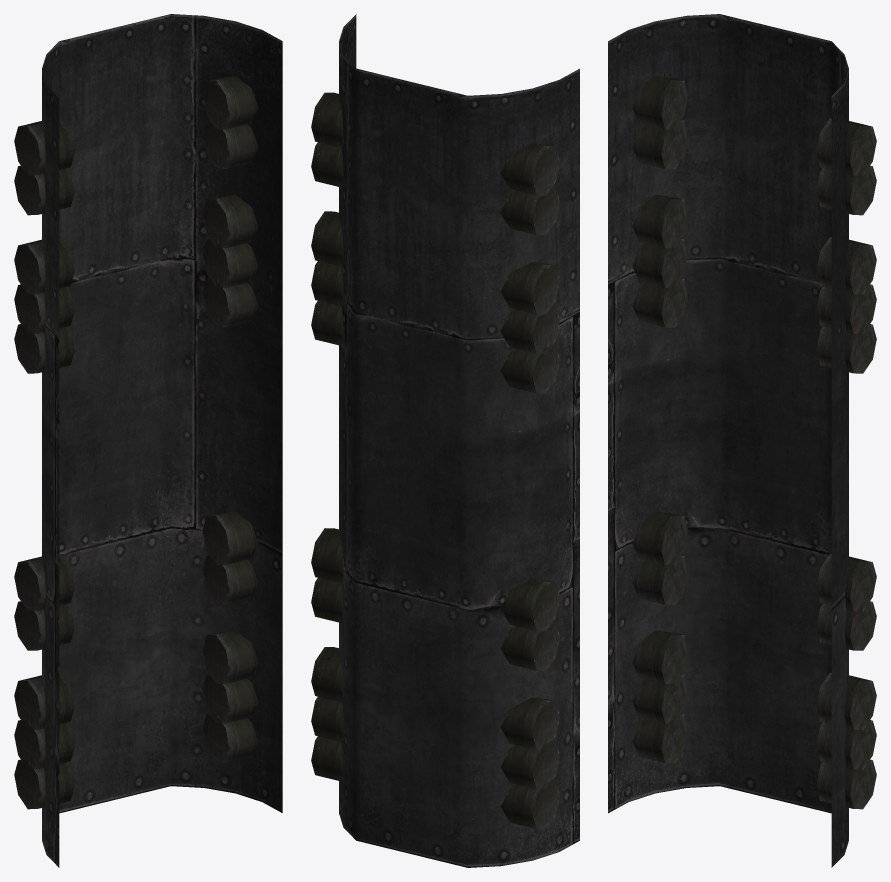
The model's file is tesla_dressing_pipe_clusters_04_hood.dae.
The picture shows the model from 3 angles, left to right: view 1: azimuth 30°, elevation 25°; view 2: azimuth 150°, elevation 25°; view 3: azimuth 330°, elevation 25°; orthographic projection.
Visible parts, largest first — view 1: pCylinder1, polySurface49, polySurface48; view 2: pCylinder1, polySurface48, polySurface49; view 3: pCylinder1, polySurface48, polySurface49.
Part boxes in pixels (x1,y1,x2,y2): pCylinder1: [42, 14, 282, 867]; polySurface49: [202, 76, 258, 763]; polySurface48: [14, 118, 74, 809]; pCylinder1: [339, 14, 579, 867]; polySurface48: [500, 143, 559, 829]; polySurface49: [311, 92, 343, 781]; pCylinder1: [608, 14, 848, 867]; polySurface48: [632, 76, 688, 763]; polySurface49: [816, 118, 876, 809].
Size of the model in its own units: 1477 by 4875 by 640.
